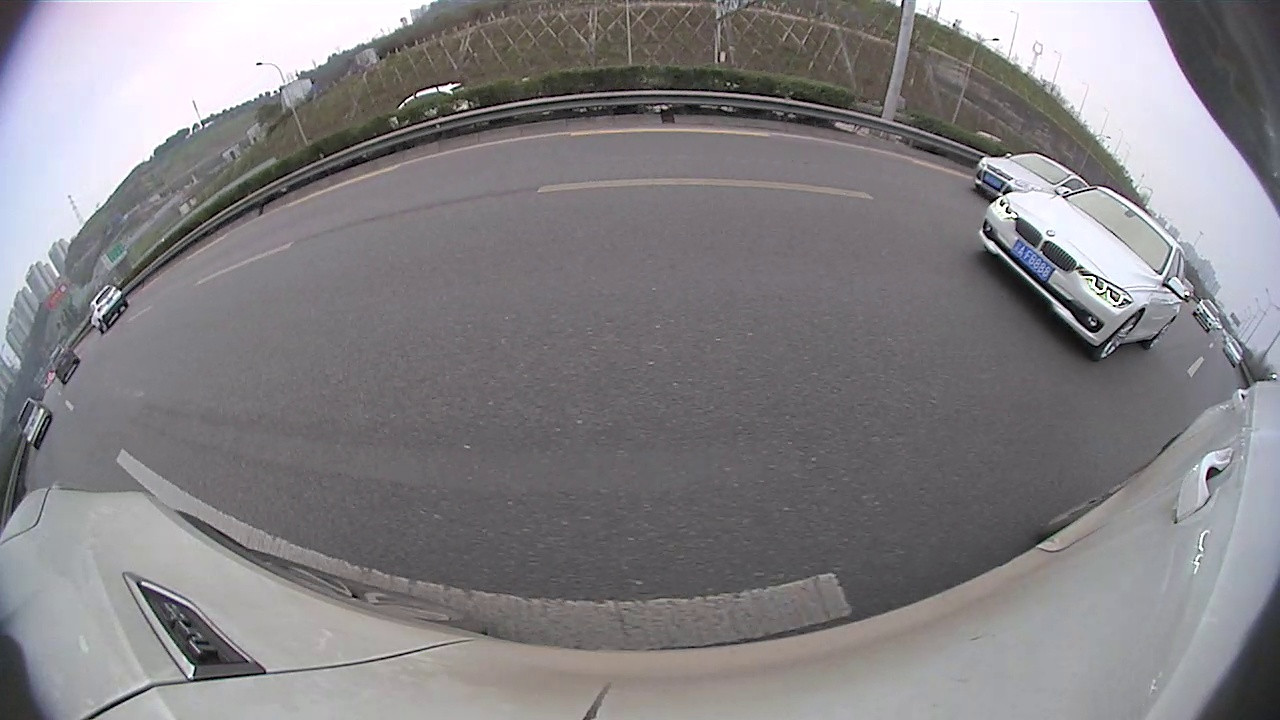car: (976, 182, 1189, 363), (973, 151, 1091, 201), (14, 395, 54, 452), (88, 282, 128, 336), (50, 343, 81, 386), (1191, 299, 1221, 333), (1221, 337, 1246, 370), (1180, 278, 1196, 304)
front: (1095, 311, 1141, 361)
rear: (1147, 318, 1175, 351)
